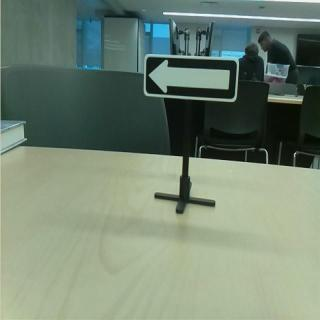sign_oneway_left: (143, 53, 241, 105)
